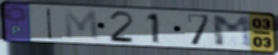1: (144, 12, 161, 44)
2: (107, 10, 135, 44)
7: (186, 13, 211, 47)
I: (45, 7, 54, 40)
M: (210, 15, 256, 49), (62, 8, 102, 42)
